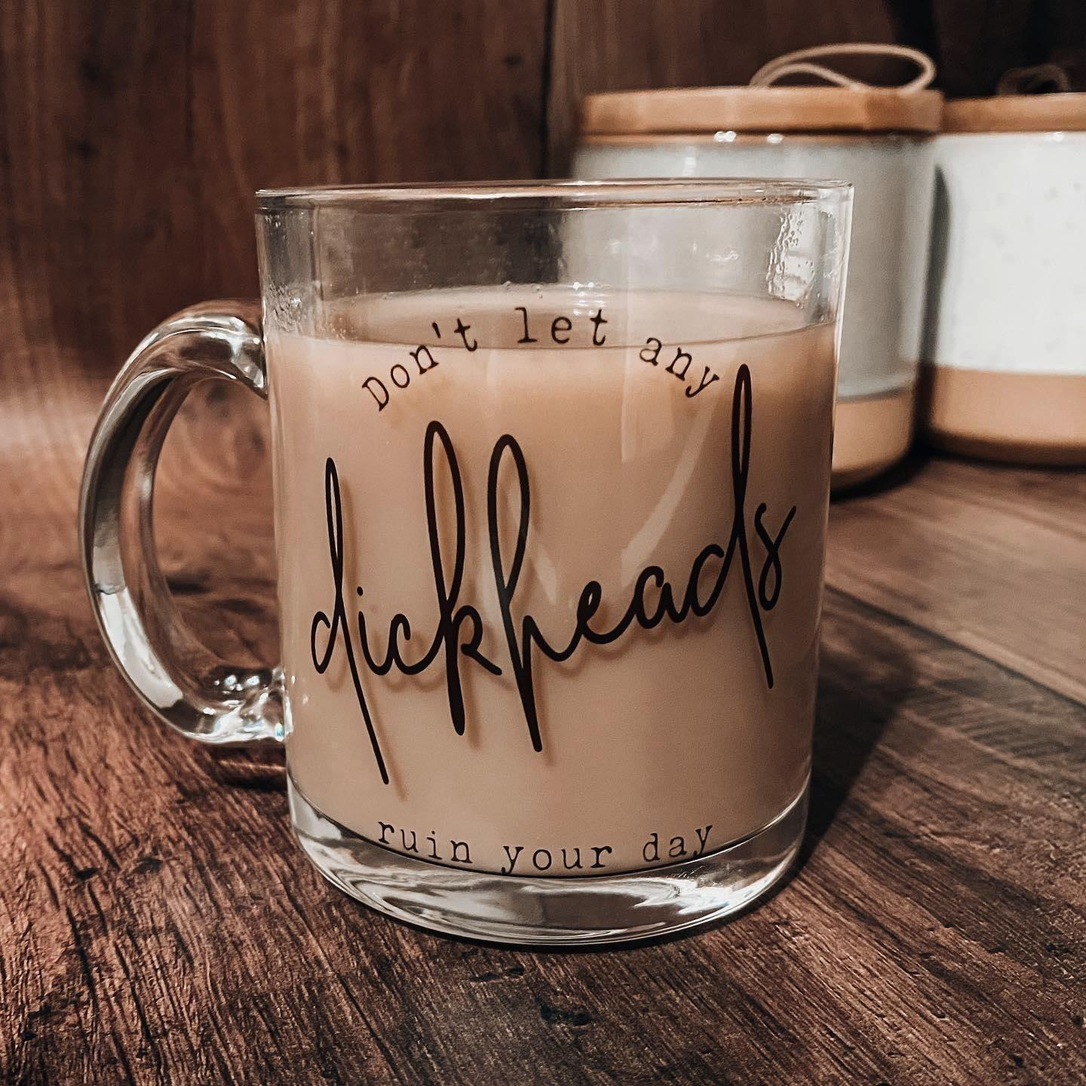glass-mug: (64, 165, 864, 973)
